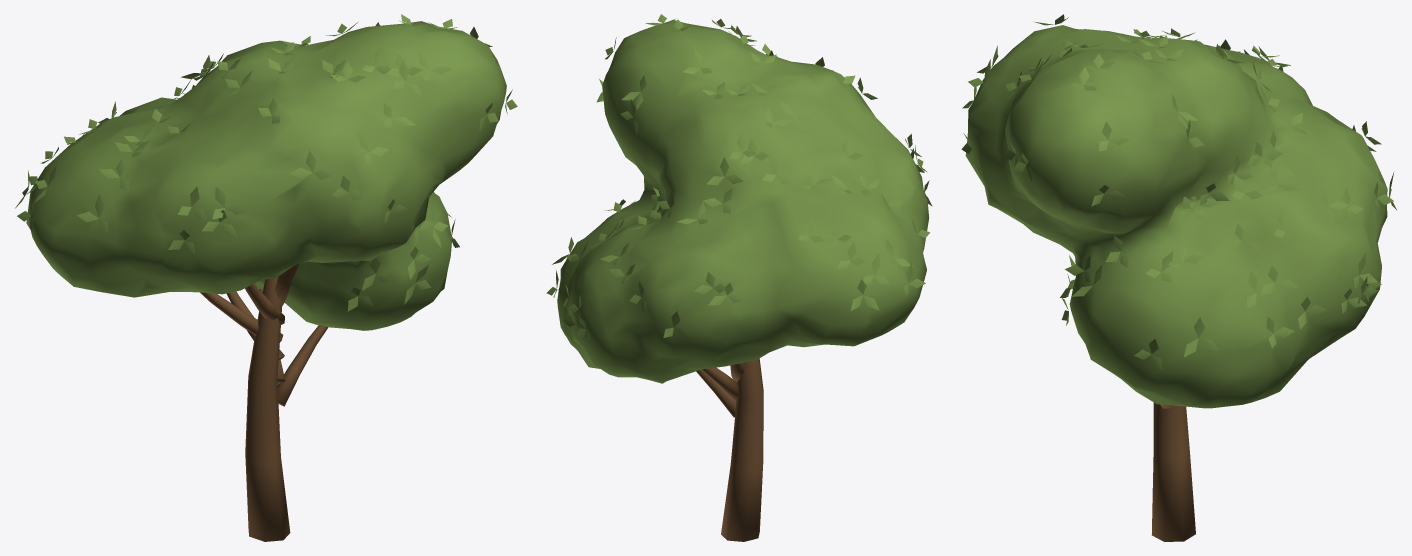
Rendered from layered-a.glb.
3 views of the same model, side by side, from view 1: azimuth 30°, elevation 25°; view 2: azimuth 150°, elevation 25°; view 3: azimuth 270°, elevation 25° (orthographic). The views are drawn at different scales.
Visible parts, largest first — view 1: layered-a; view 2: layered-a; view 3: layered-a.
Part boxes in pixels (bbox=[...]): layered-a: bbox=[15, 14, 517, 541]; layered-a: bbox=[546, 14, 932, 541]; layered-a: bbox=[961, 14, 1396, 541].
Bounding box in the file's own units: 1.8 × 2.15 × 1.62.
